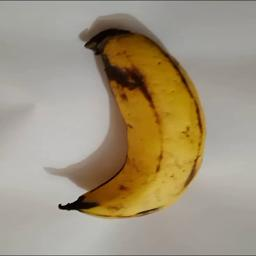Banana Semifresh: (57, 14, 207, 222)
